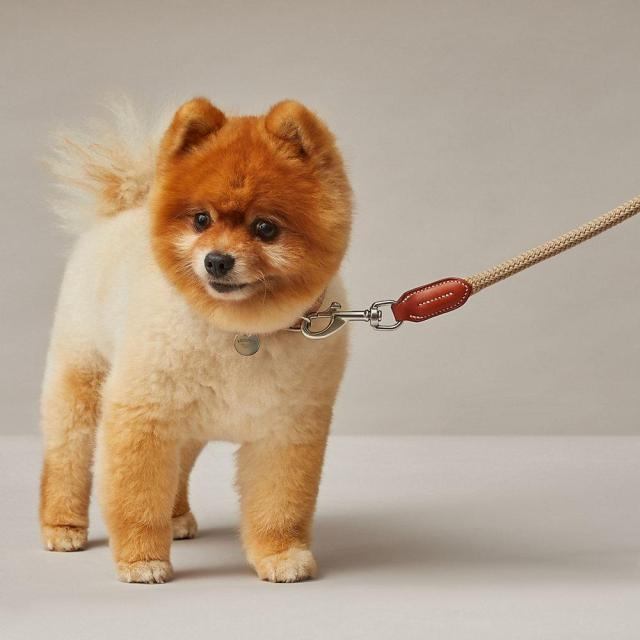Dog: (142, 91, 360, 333)
